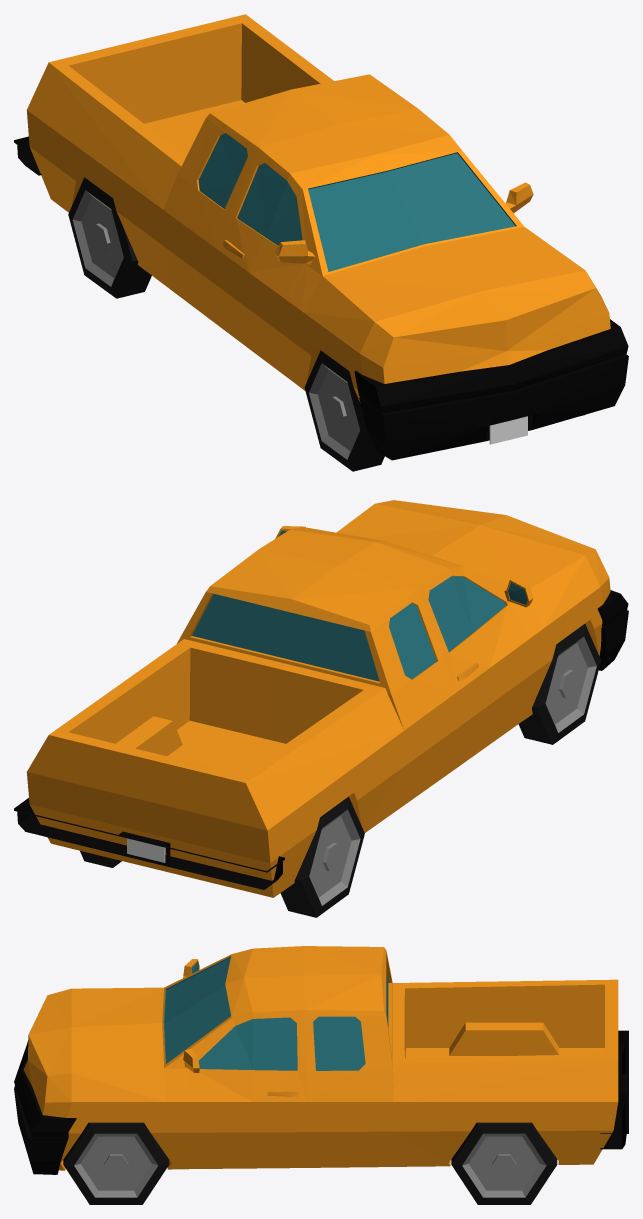
File: lowpoly-esque_yellow_pickup_truck.glb
3 views of the same model, one above another, from view 1: azimuth 30°, elevation 25°; view 2: azimuth 150°, elevation 25°; view 3: azimuth 270°, elevation 25° (orthographic). The views are drawn at different scales.
Parts seen in each view (by area): view 1: Main_Car-material, Window-material, Bumpers-material, Metal-material, Black-material, License_Plate-material; view 2: Main_Car-material, Window-material, Metal-material, Bumpers-material, Black-material, License_Plate-material; view 3: Main_Car-material, Window-material, Metal-material, Black-material, Bumpers-material.
Part boxes in pixels (x1,y1,x2,y2): Main_Car-material: (26, 14, 610, 402); Window-material: (198, 133, 516, 271); Bumpers-material: (14, 136, 628, 460); Metal-material: (72, 190, 360, 459); Black-material: (68, 177, 584, 471); License_Plate-material: (489, 416, 527, 444); Main_Car-material: (26, 500, 610, 897); Window-material: (192, 530, 527, 681); Metal-material: (309, 636, 596, 905); Bumpers-material: (14, 590, 628, 889); Black-material: (80, 624, 601, 917); License_Plate-material: (127, 838, 165, 862); Main_Car-material: (23, 946, 618, 1170); Window-material: (163, 956, 388, 1070); Metal-material: (74, 1133, 546, 1197); Black-material: (63, 1122, 557, 1204); Bumpers-material: (14, 1030, 628, 1174).
Bounding box in the file's own units: 1.91 × 1.6 × 4.86.
